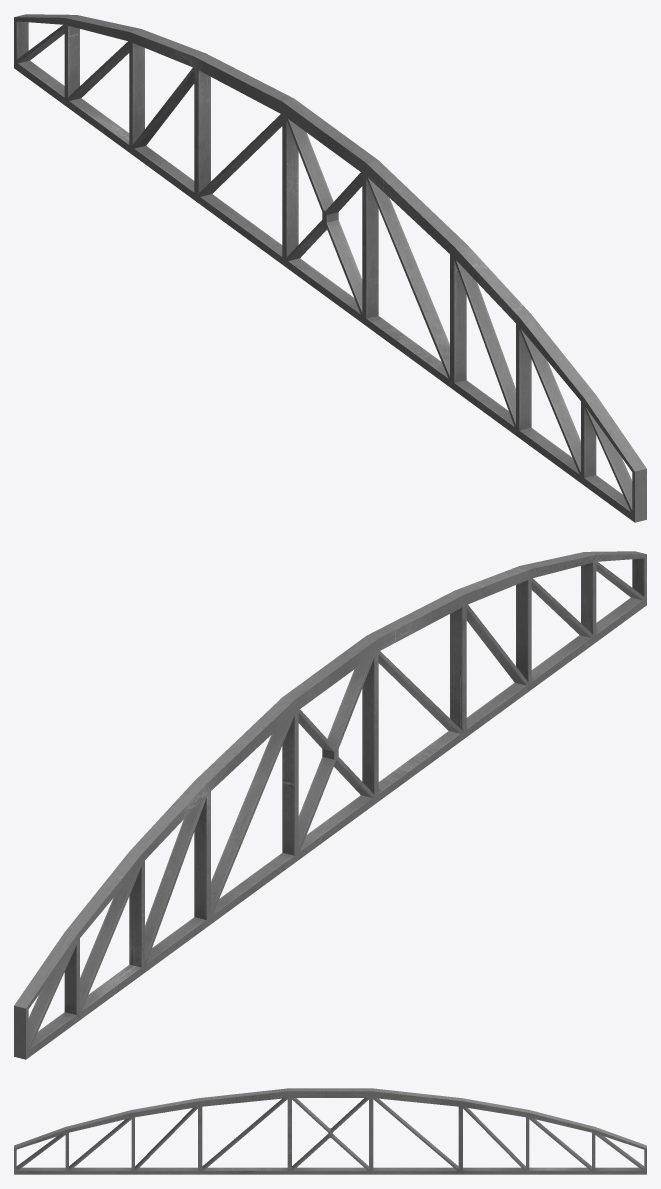
File: trave.fbx
3 views of the same model, one above another, from view 1: azimuth 30°, elevation 25°; view 2: azimuth 150°, elevation 25°; view 3: azimuth 270°, elevation 25° (orthographic). The views are drawn at different scales.
Parts seen in each view (by area): view 1: trave; view 2: trave; view 3: trave.
Boxes of the visible parts, x1,y1,x2,y2 form: trave: (14,14,646,522); trave: (14,551,646,1059); trave: (14,1088,646,1174).
Bounding box in the file's own units: 50 × 642 × 4431.
